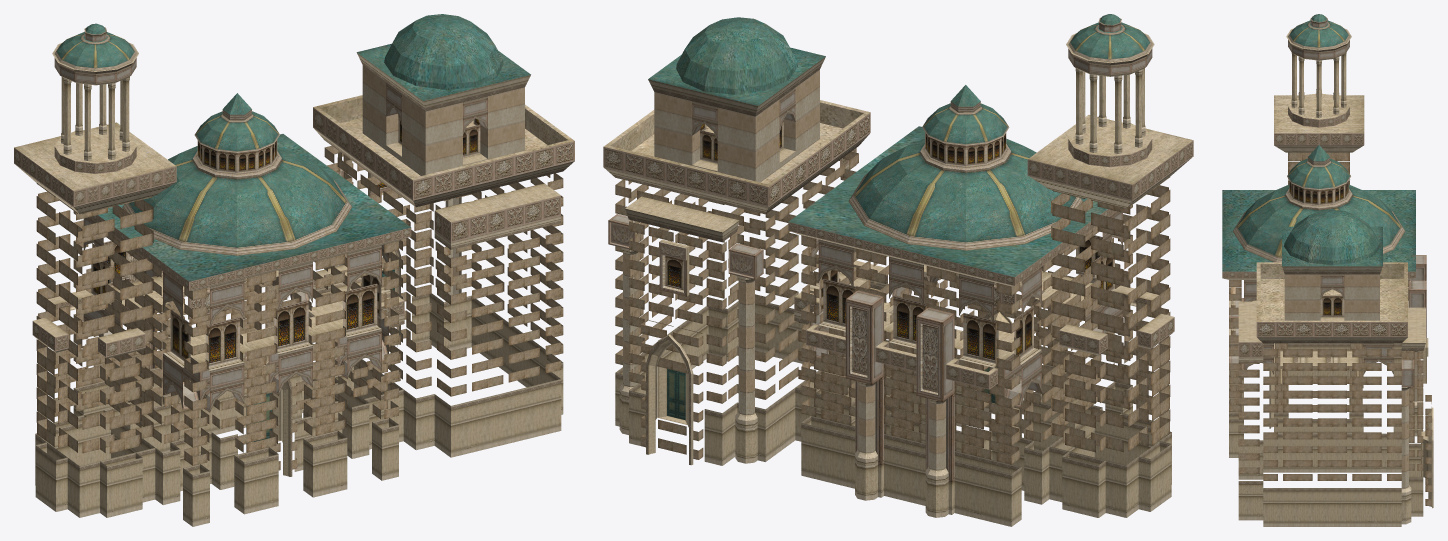
The model's file is thm_nboo_block_bldg_32x16_s02_l0.fbx.
3 renders of one model, left to right at view 1: azimuth 30°, elevation 25°; view 2: azimuth 150°, elevation 25°; view 3: azimuth 270°, elevation 25°, orthographic. The views are drawn at different scales.
Parts seen in each view (by area): view 1: mesh_node; view 2: mesh_node; view 3: mesh_node.
Boxes of the visible parts, x1,y1,x2,y2 form: mesh_node: [14, 14, 574, 526]; mesh_node: [603, 14, 1193, 526]; mesh_node: [1222, 14, 1433, 526].
Bounding box in the file's own units: 32.07 × 29.27 × 15.88.
